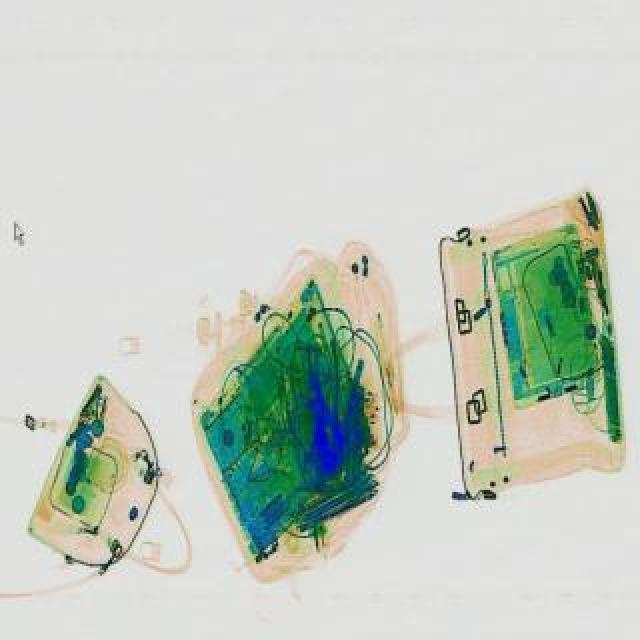wrench: (302, 340, 350, 446), (282, 396, 328, 472)
